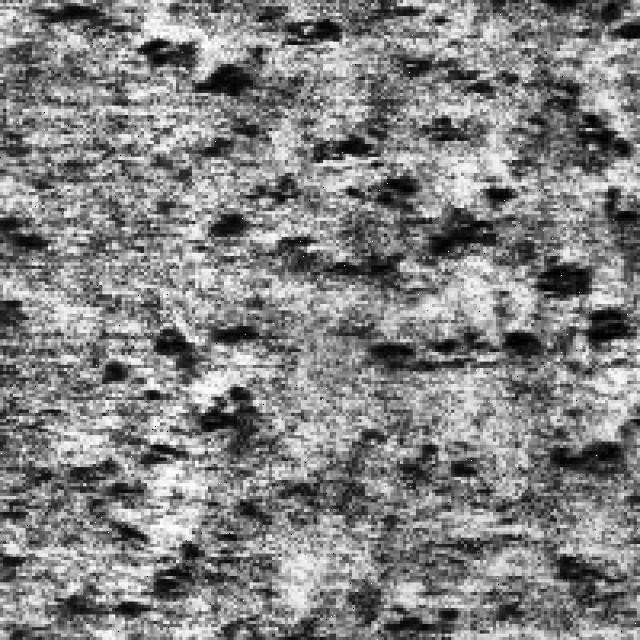Crazing: (285, 93, 640, 384), (45, 0, 349, 243), (67, 300, 275, 628)
